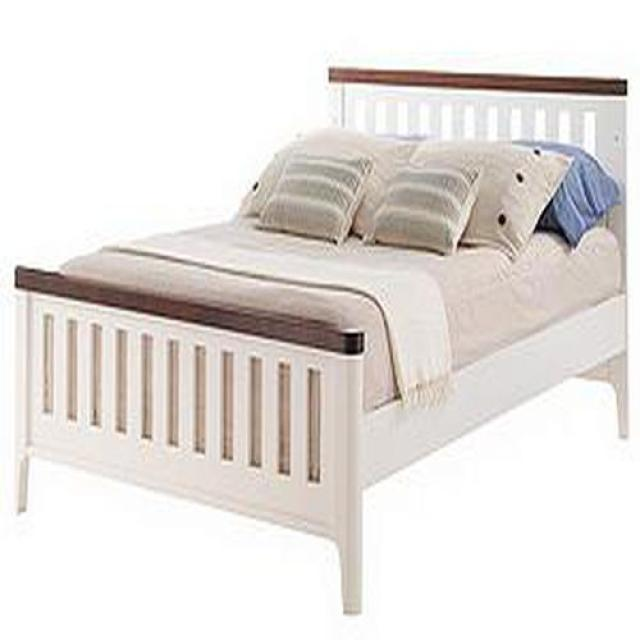bed: (13, 68, 631, 618)
